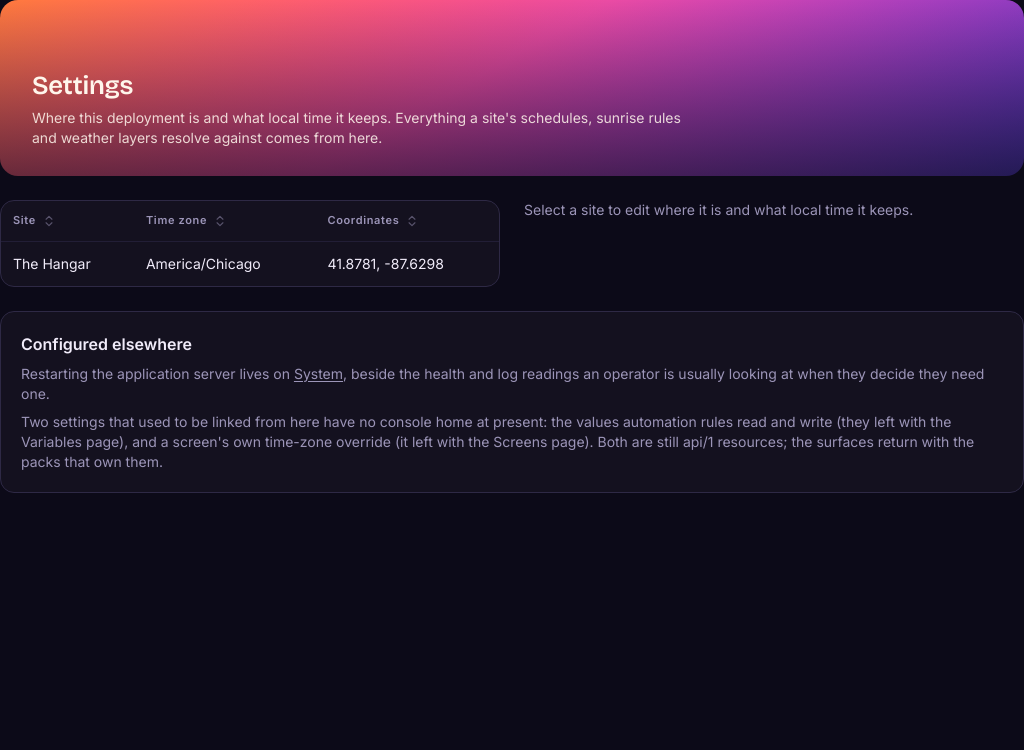
Test case: Settings — refusals › keeps the operator's edits and the box's values side by side on a 412
The width and height of the screenshot is (1024, 750).
Expected: the table named "Sites" is shown, top-left (1, 201), bottom-right (499, 286)
Click the button "The Hangar". click: coordinates (250, 263)
box: top-left (1, 241), bottom-right (499, 286)
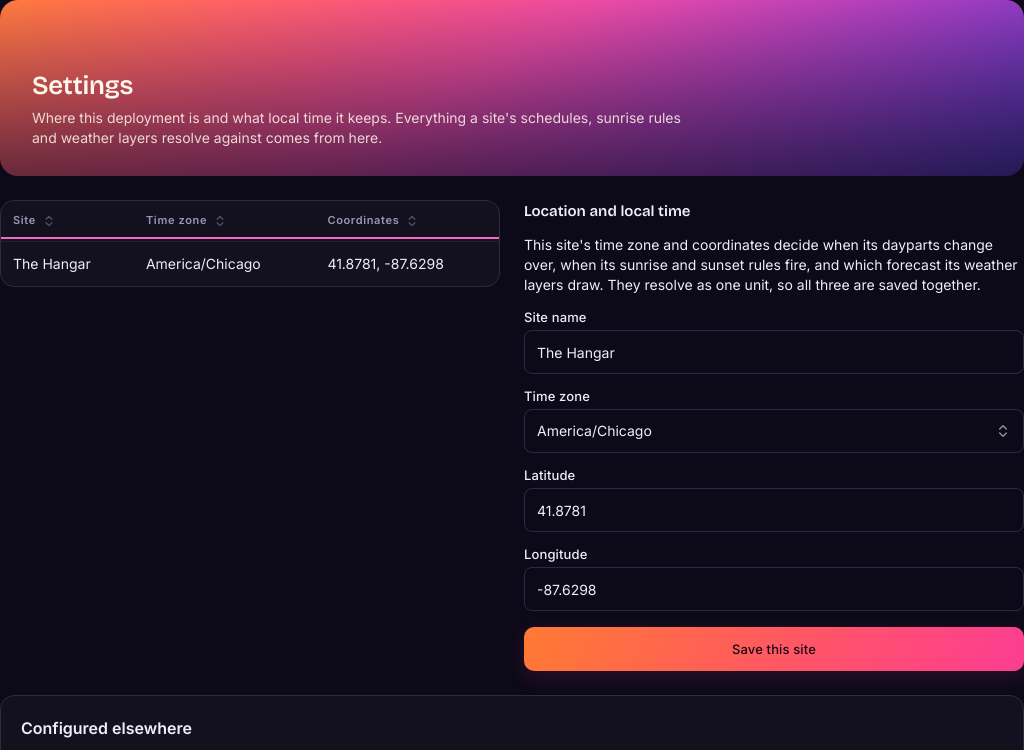
Expected: the field labelled "Site name" is shown, top-left (524, 330), bottom-right (1023, 374)
Click the dropdown named "Time zone". click: coordinates (594, 431)
box: top-left (524, 409), bottom-right (1023, 453)
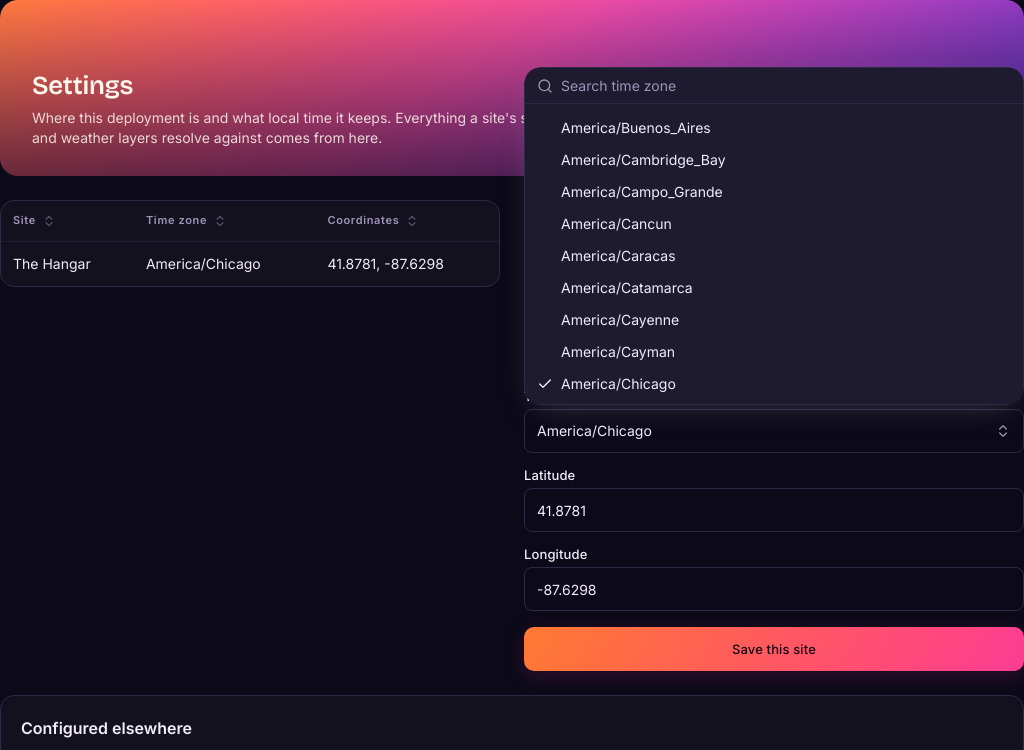
Type "Asia/Tokyo" into the dropdown with placeholder "Search time zone". click: coordinates (786, 86)
box: top-left (561, 66), bottom-right (1011, 106)
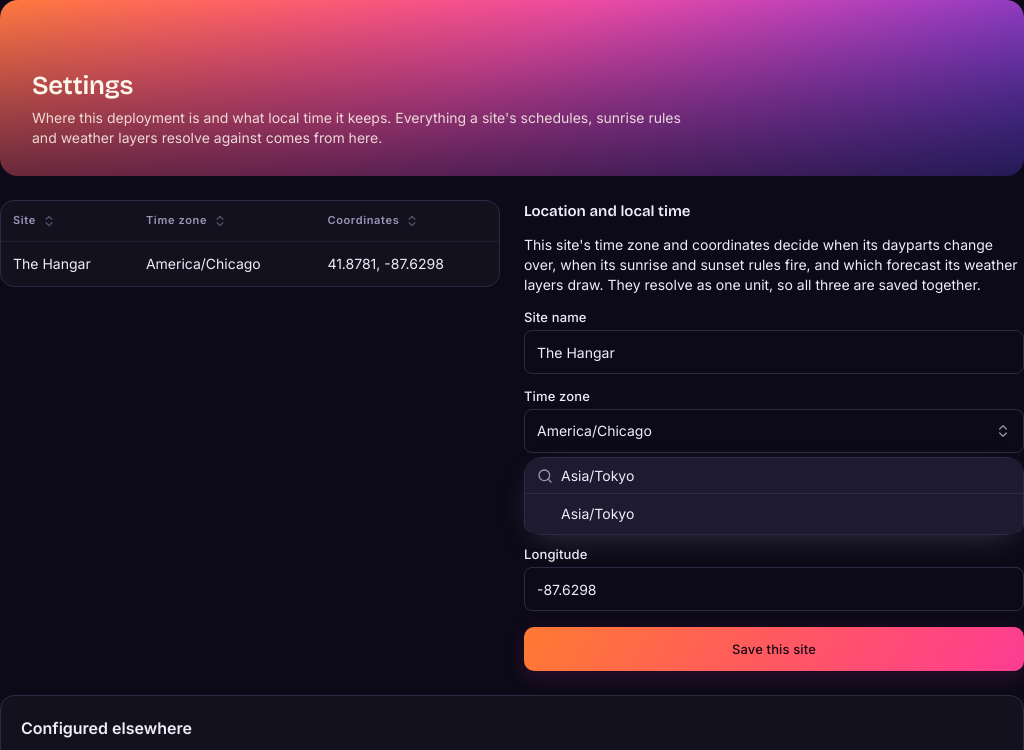
Click the option "Asia/Tokyo". click: coordinates (598, 514)
box: top-left (529, 498), bottom-right (1019, 530)
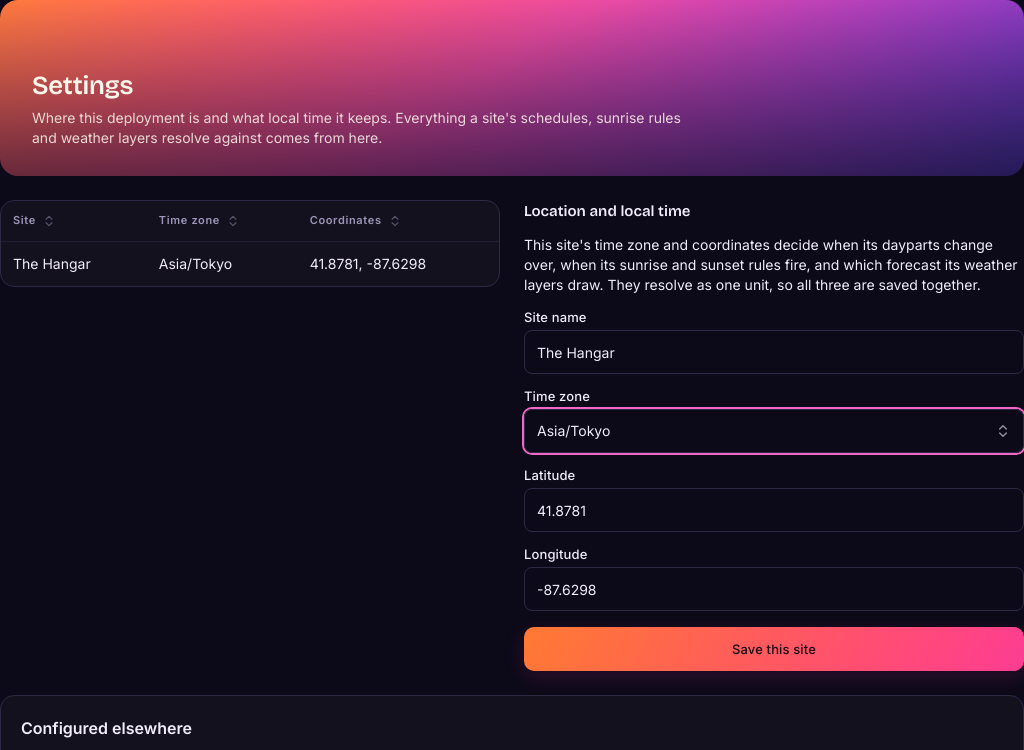
Expected: the dropdown named "Time zone" reads "Asia/Tokyo", top-left (524, 409), bottom-right (1023, 453)
Click the button "Save this site". click: coordinates (774, 649)
box: top-left (524, 627), bottom-right (1023, 671)
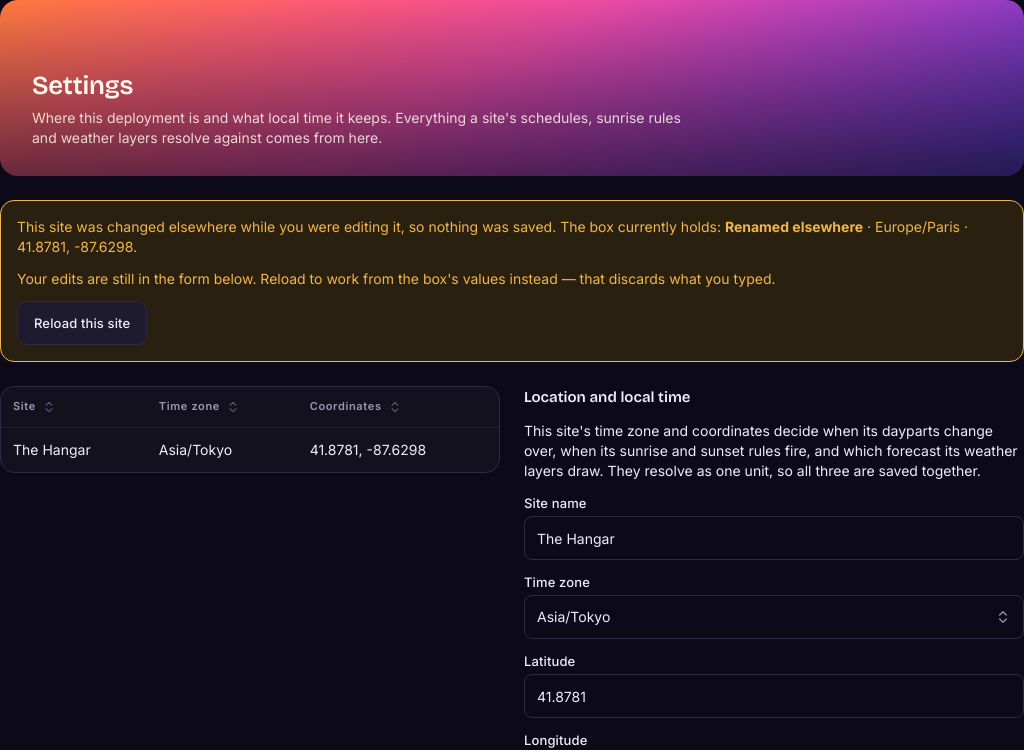
Expected: the dropdown named "Time zone" reads "Asia/Tokyo", top-left (524, 595), bottom-right (1023, 639)
Expected: the message shows "Renamed elsewhere", top-left (725, 218), bottom-right (863, 235)
Expected: the message shows "Europe/Paris", top-left (875, 218), bottom-right (960, 235)
